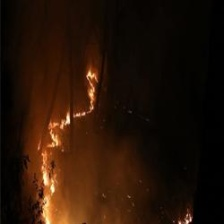fire: (30, 55, 131, 224), (176, 208, 195, 224)
